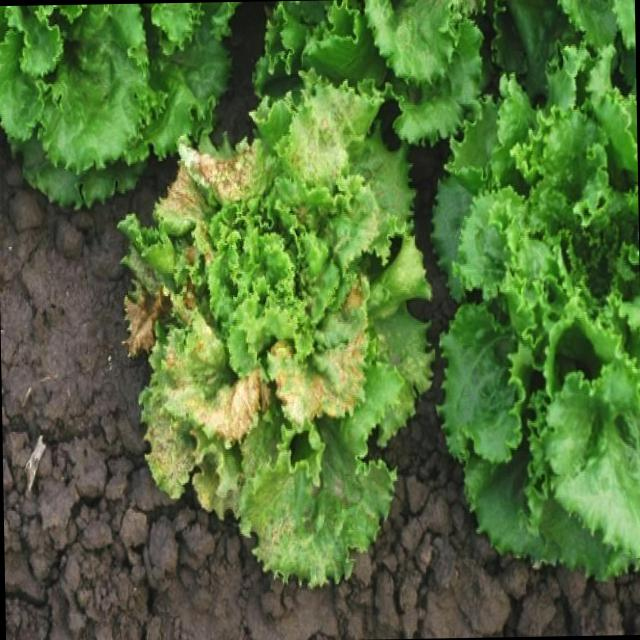Bacterial: (169, 134, 383, 496)
